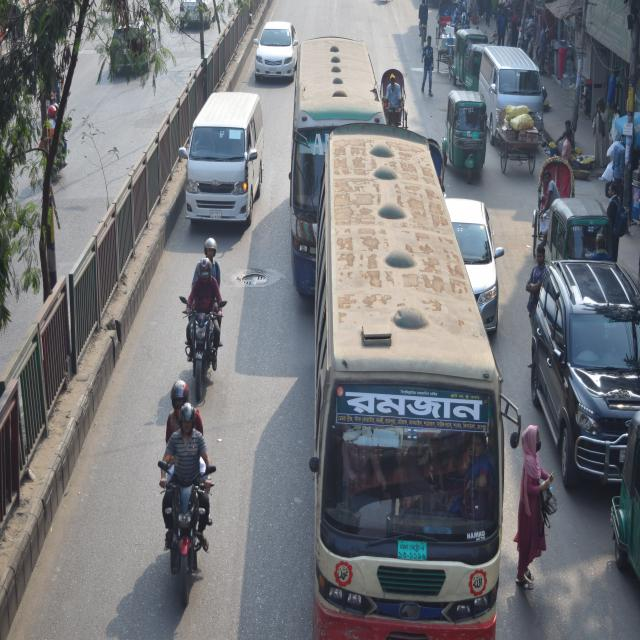bus: (322, 129, 458, 640), (298, 31, 368, 302)
car: (533, 262, 640, 492), (444, 186, 500, 316), (256, 12, 296, 80)
microbus: (180, 90, 264, 234), (478, 49, 546, 152)
motorbike: (146, 464, 215, 618), (174, 288, 228, 400)
